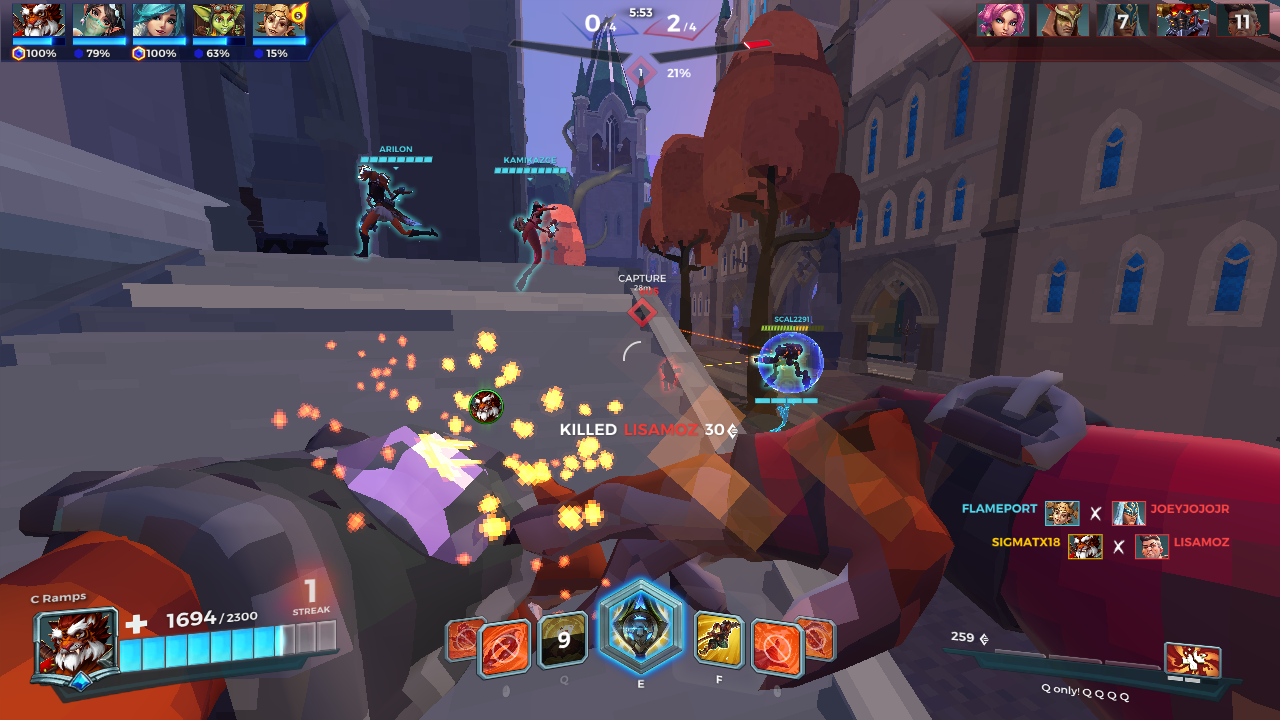model: (658, 353, 682, 396)
